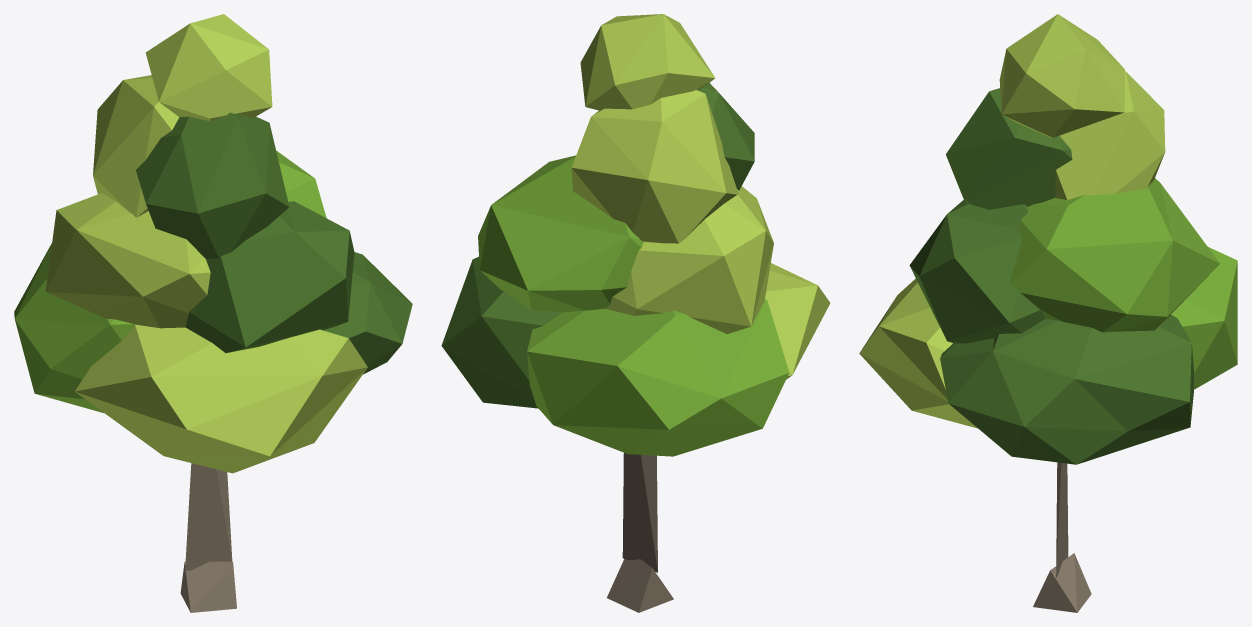
The model's file is tree_beech_2_lod1.glb.
The picture shows the model from 3 angles, left to right: view 1: azimuth 30°, elevation 25°; view 2: azimuth 150°, elevation 25°; view 3: azimuth 270°, elevation 25°; orthographic projection. The views are drawn at different scales.
Parts seen in each view (by area): view 1: tree_beech_2_lod1; view 2: tree_beech_2_lod1; view 3: tree_beech_2_lod1.
Part boxes in pixels (x1,y1,x2,y2): tree_beech_2_lod1: [14, 14, 412, 612]; tree_beech_2_lod1: [441, 14, 830, 612]; tree_beech_2_lod1: [859, 14, 1237, 612].
Bounding box in the file's own units: 6.45 × 10.66 × 6.35.
